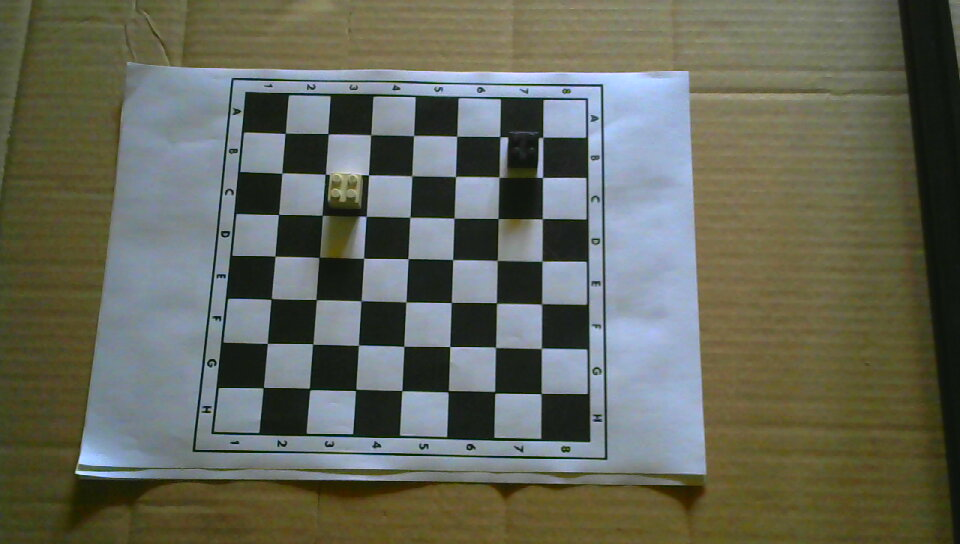bp: (505, 129, 541, 170)
wp: (327, 169, 364, 211)
